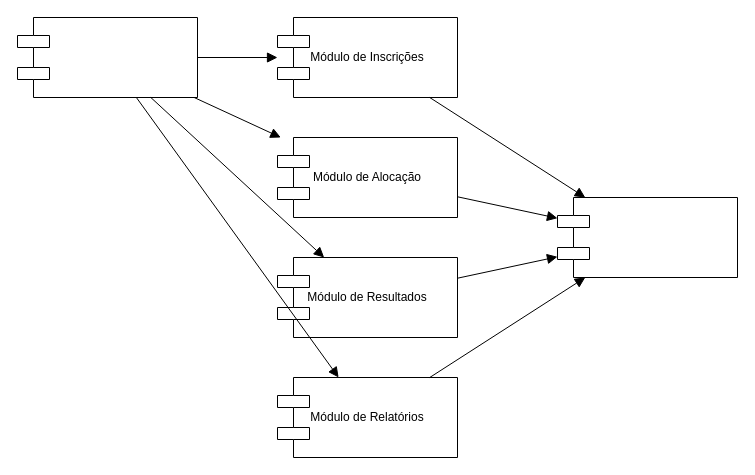
Some shapes in this 755 by 475 pixel diagram are drawn without their labels. Each missing label, with the centre of its shape:
"Banco de Dados" belongs at (647,237).
"Interface de Usuário" belongs at (107,57).
